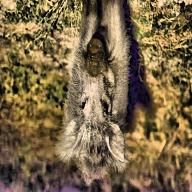boar: (57, 0, 144, 187)
